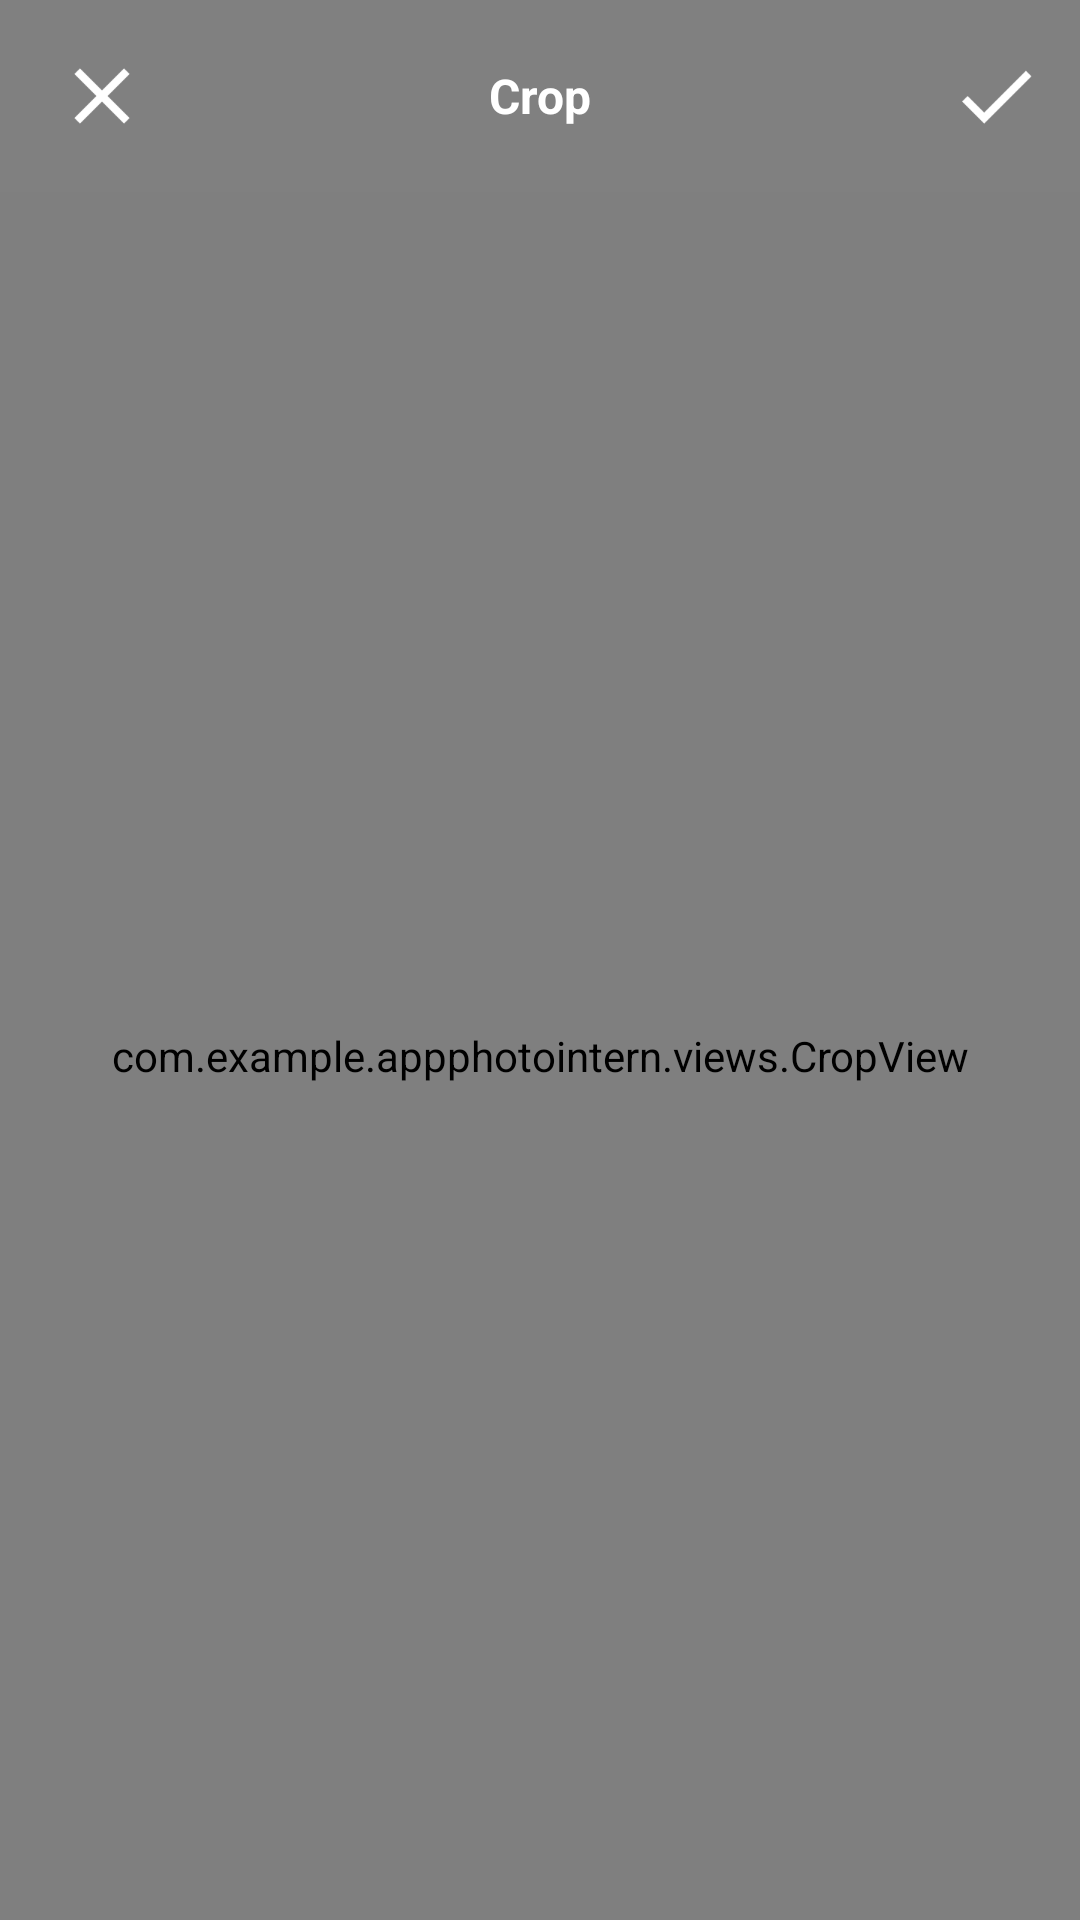

Where icons sit on this 1080 x 1920 app screen, as (x1, y1, x2, y2):
close: (74, 68, 130, 124)
done: (962, 71, 1031, 124)
